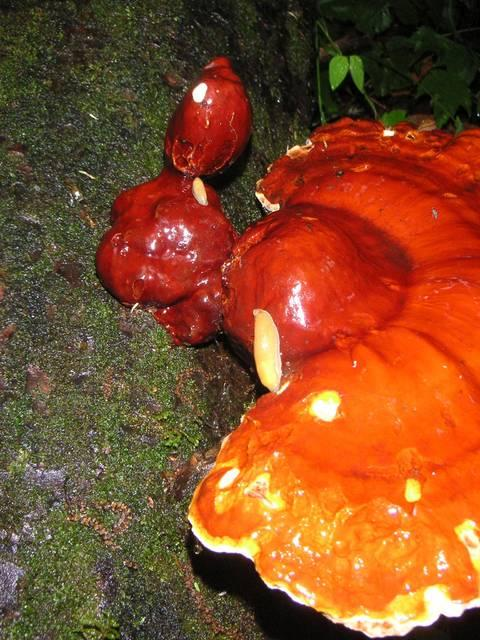Non-edible Mushroom: (100, 107, 480, 629), (163, 54, 253, 178)
